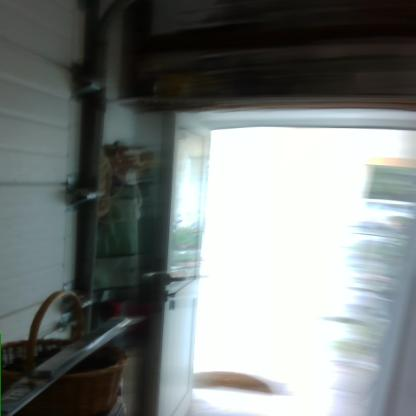open: (147, 103, 415, 415)
